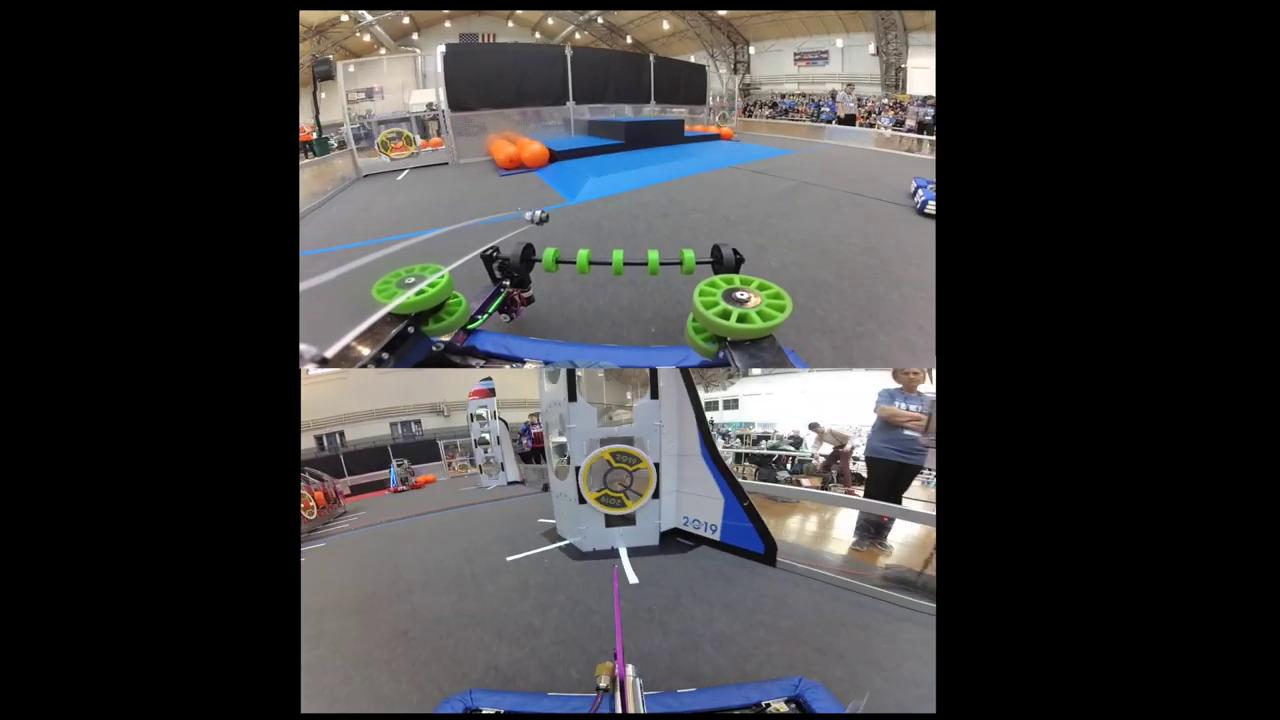robot: (387, 458, 423, 493), (909, 177, 936, 220)
